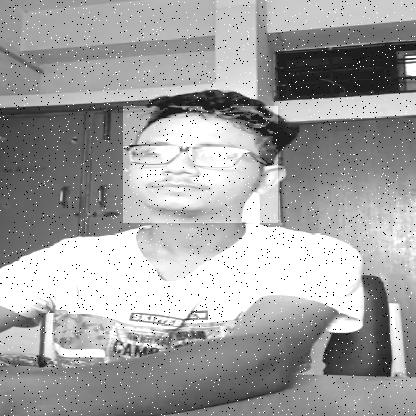Normal: (123, 106, 278, 223)
